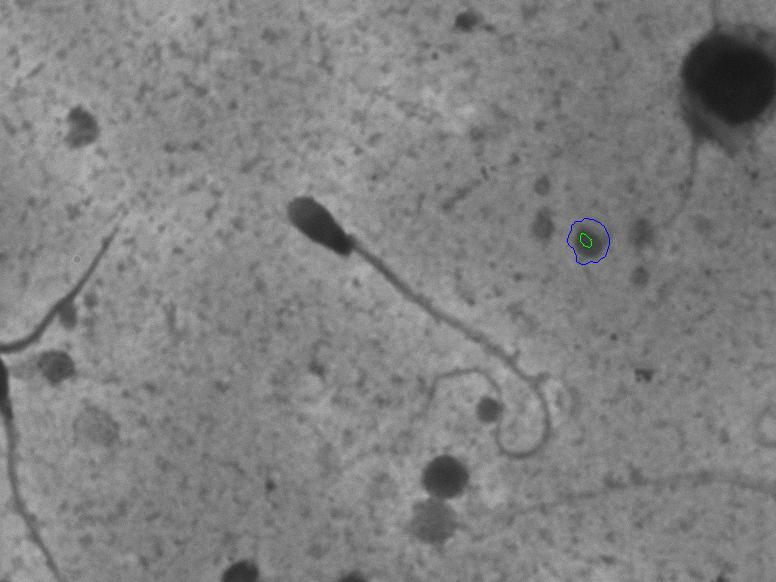Abnormal: (252, 176, 556, 470)
